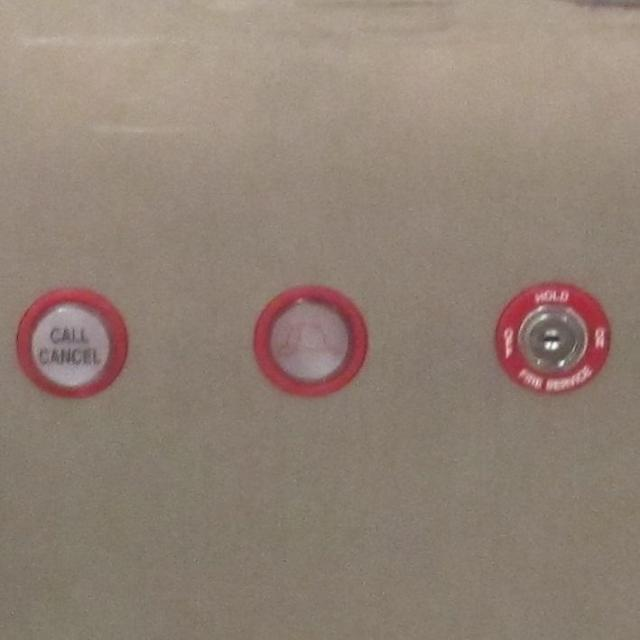hat: (248, 282, 369, 397)
keyhole: (491, 280, 611, 394)
text_CALL: (11, 285, 128, 401)
